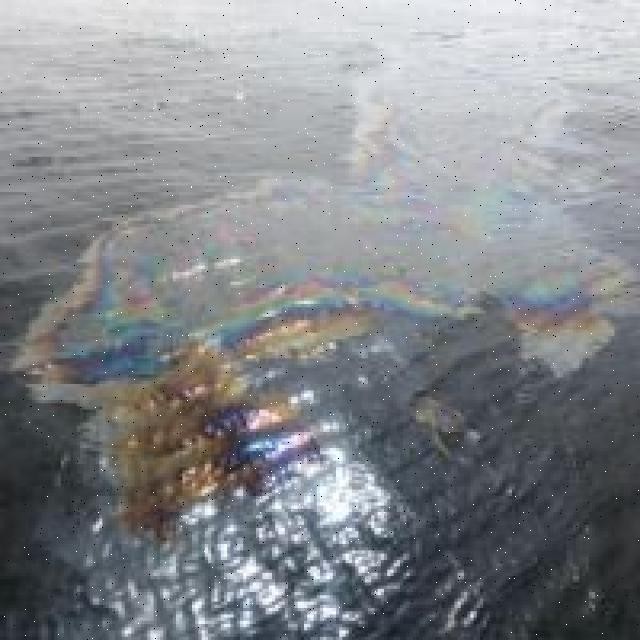oil: (3, 94, 640, 508)
